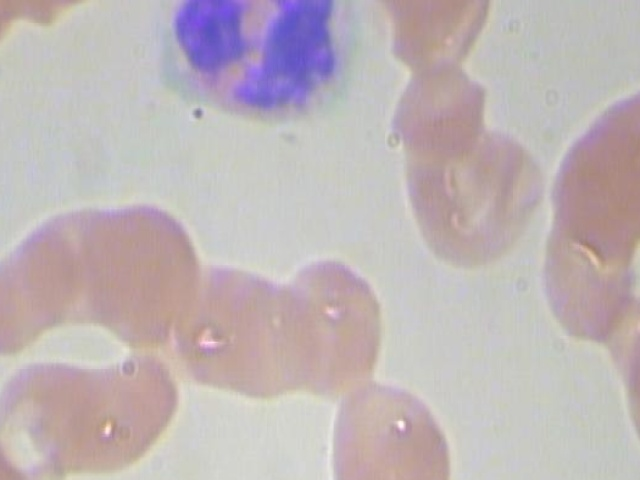RBC: (392, 104, 552, 277), (261, 251, 391, 416), (313, 375, 470, 480), (218, 252, 326, 404), (0, 228, 80, 358)
WBC: (159, 0, 371, 117)
